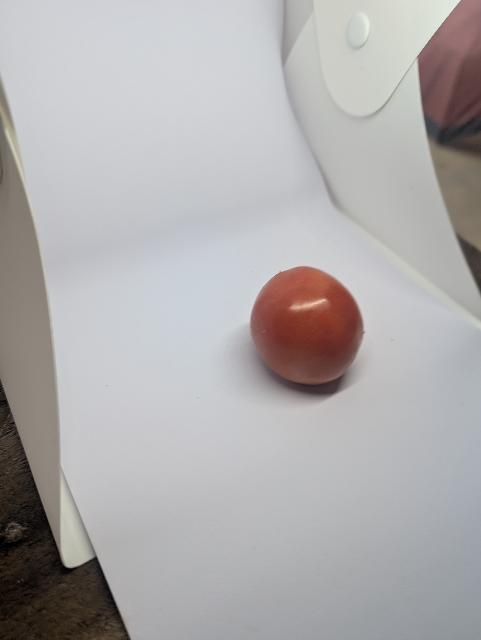red: (230, 248, 387, 403)
